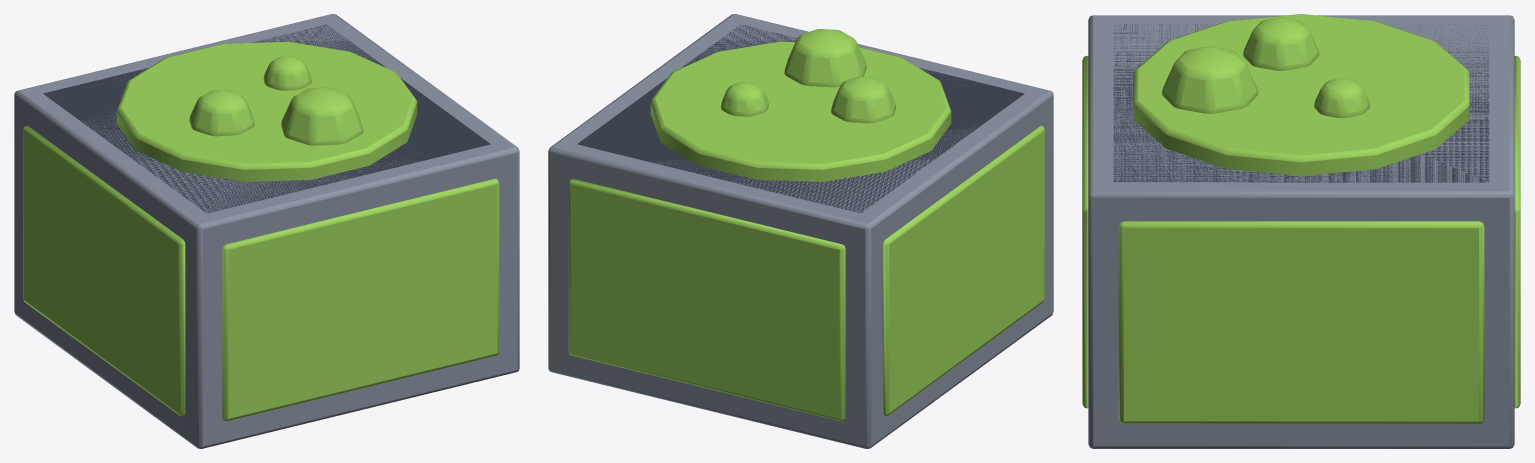
The model's file is ware_chemie.fbx.
The picture shows the model from 3 angles, left to right: view 1: azimuth 30°, elevation 25°; view 2: azimuth 150°, elevation 25°; view 3: azimuth 270°, elevation 25°; orthographic projection. The views are drawn at different scales.
Parts seen in each view (by area): view 1: ware_chemie_Koerper; view 2: ware_chemie_Koerper; view 3: ware_chemie_Koerper.
Boxes of the visible parts, <box> form: ware_chemie_Koerper: <box>14,14,519,448</box>; ware_chemie_Koerper: <box>548,14,1053,448</box>; ware_chemie_Koerper: <box>1082,14,1520,448</box>.
Bounding box in the file's own units: 0.432 × 0.35 × 0.432.
